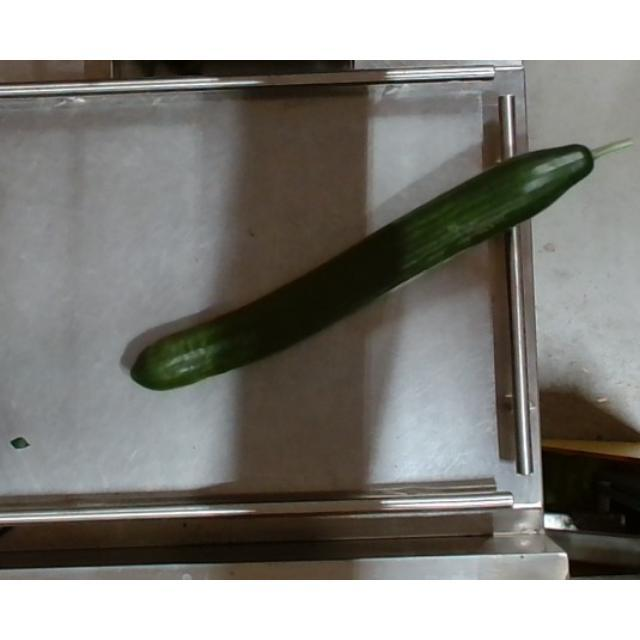cucumber: (128, 137, 632, 390)
